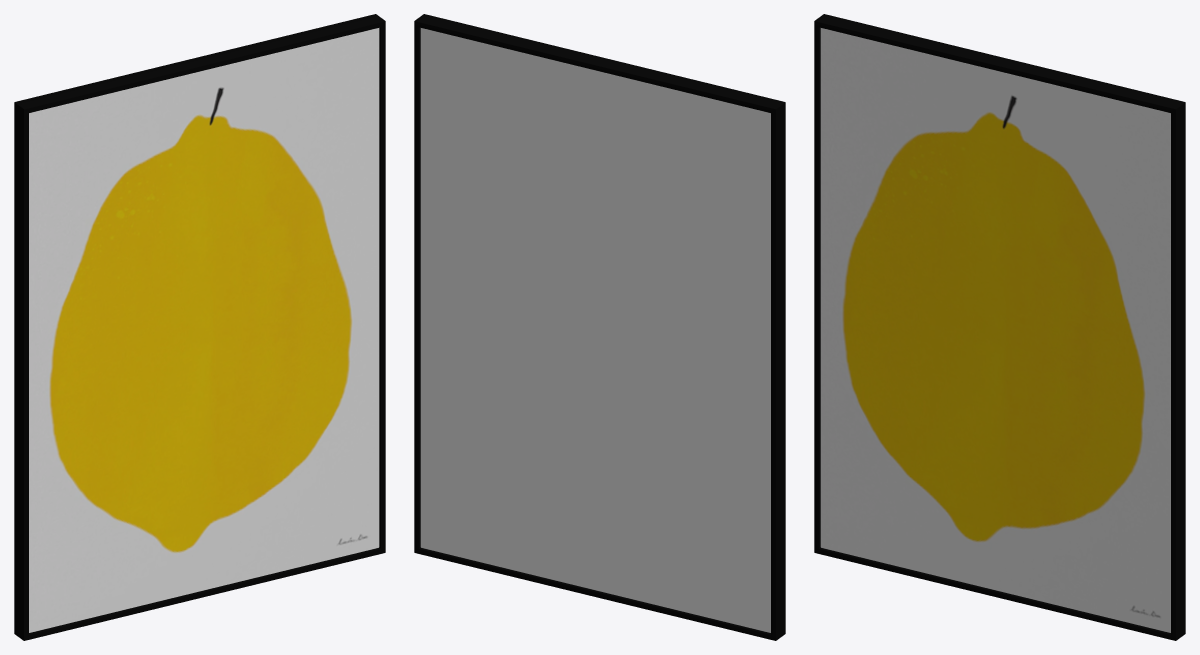
Rendered from LemonPainting.fbx.
The picture shows the model from 3 angles, left to right: view 1: azimuth 30°, elevation 25°; view 2: azimuth 150°, elevation 25°; view 3: azimuth 330°, elevation 25°; orthographic projection.
Visible parts, largest first — view 1: shelf-163148_frame_a2_black; view 2: shelf-163148_frame_a2_black; view 3: shelf-163148_frame_a2_black.
Part boxes in pixels (box(x1,y1,x2,y2)): shelf-163148_frame_a2_black: box(14, 14, 385, 640); shelf-163148_frame_a2_black: box(414, 14, 785, 640); shelf-163148_frame_a2_black: box(814, 14, 1185, 640).
Bounding box in the file's own units: 42 × 59 × 2.
Materials: 1 (1 with a texture image).
